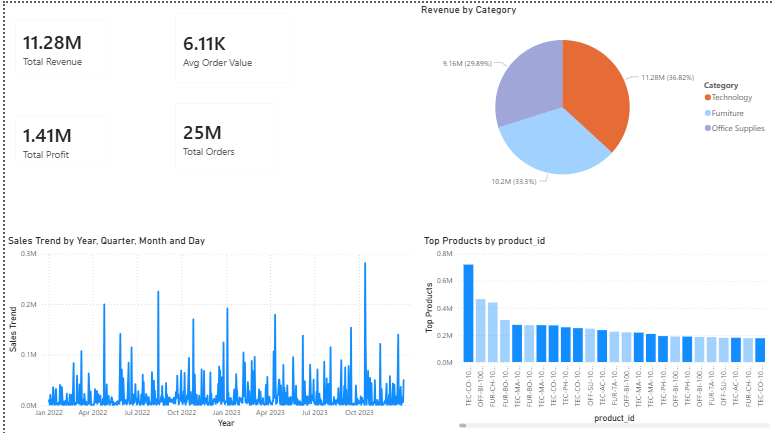

This screenshot's page, from the dashboard's own definition file:
{"tool":"powerbi","page":{"name":"Page 1","canvas":[1280,720],"ordinal":0},"visuals":[{"type":"cardVisual","fields":{"Data":["Sum(fact_sales.revenue)"]},"box":[0,10,193.3,128.3],"z":0},{"type":"cardVisual","fields":{"Data":["Sum(fact_sales.profit)"]},"box":[0,171.7,193.3,113.3],"z":1000},{"type":"lineChart","fields":{"Y":["Sum(fact_sales.revenue)"],"Category":["dim_date.order_date.Variation.Date Hierarchy.Year","dim_date.order_date.Variation.Date Hierarchy.Quarter","dim_date.order_date.Variation.Date Hierarchy.Month","dim_date.order_date.Variation.Date Hierarchy.Day"]},"box":[0,385,693.3,328.3],"z":2000},{"type":"clusteredColumnChart","fields":{"Category":["dim_product.product_id"],"Y":["Sum(fact_sales.revenue)"]},"box":[693.3,385,586.7,328.3],"z":3000},{"type":"pieChart","fields":{"Category":["dim_product.category"],"Y":["Sum(fact_sales.revenue)"]},"box":[688.3,0,591.7,328.3],"z":4000},{"type":"cardVisual","fields":{"Data":["Sum(fact_sales.order_id)"]},"box":[266.7,150,206.7,148.3],"z":5000},{"type":"cardVisual","fields":{"Data":["dim_date.Average Order Value"]},"box":[266.7,0,226.7,150],"z":6000}]}

Visuals, with their boxes in screenshot pixels (x1, y1, x2, y2), scaled from the page's 1280x720 canvas onto the 773x433 screenshot:
cardVisual - Sum(fact_sales.revenue): <box>0,6,117,83</box>
cardVisual - Sum(fact_sales.profit): <box>0,103,117,171</box>
lineChart - Sum(fact_sales.revenue) x dim_date.order_date.Variation.Date Hierarchy.Year: <box>0,232,419,429</box>
clusteredColumnChart - dim_product.product_id x Sum(fact_sales.revenue): <box>419,232,772,429</box>
pieChart - dim_product.category x Sum(fact_sales.revenue): <box>416,0,772,197</box>
cardVisual - Sum(fact_sales.order_id): <box>161,90,286,179</box>
cardVisual - dim_date.Average Order Value: <box>161,0,298,90</box>
